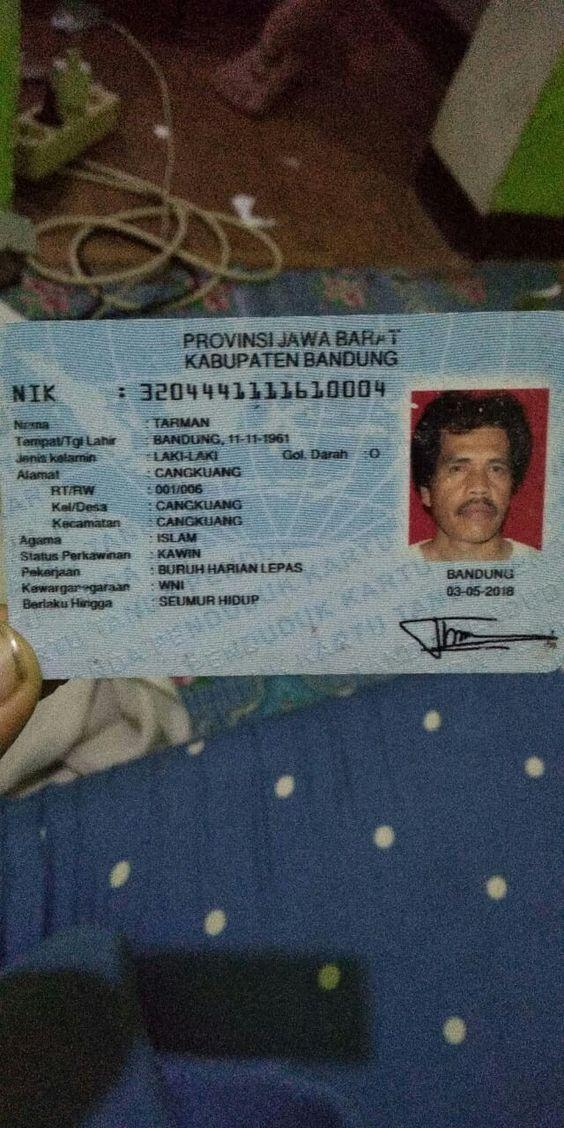ID-card: (2, 311, 562, 669)
